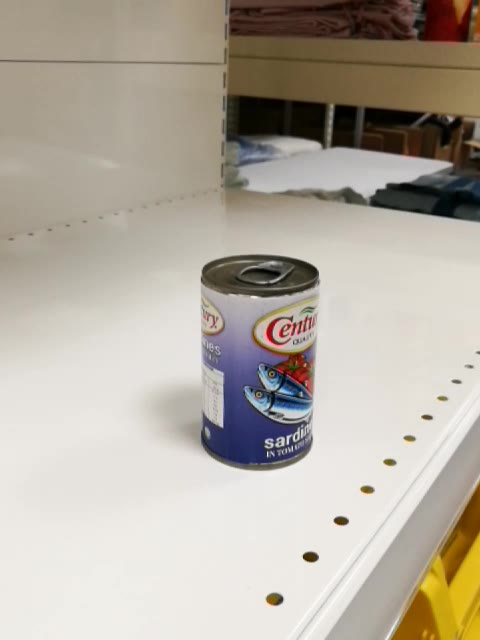sardine: (199, 252, 320, 471)
